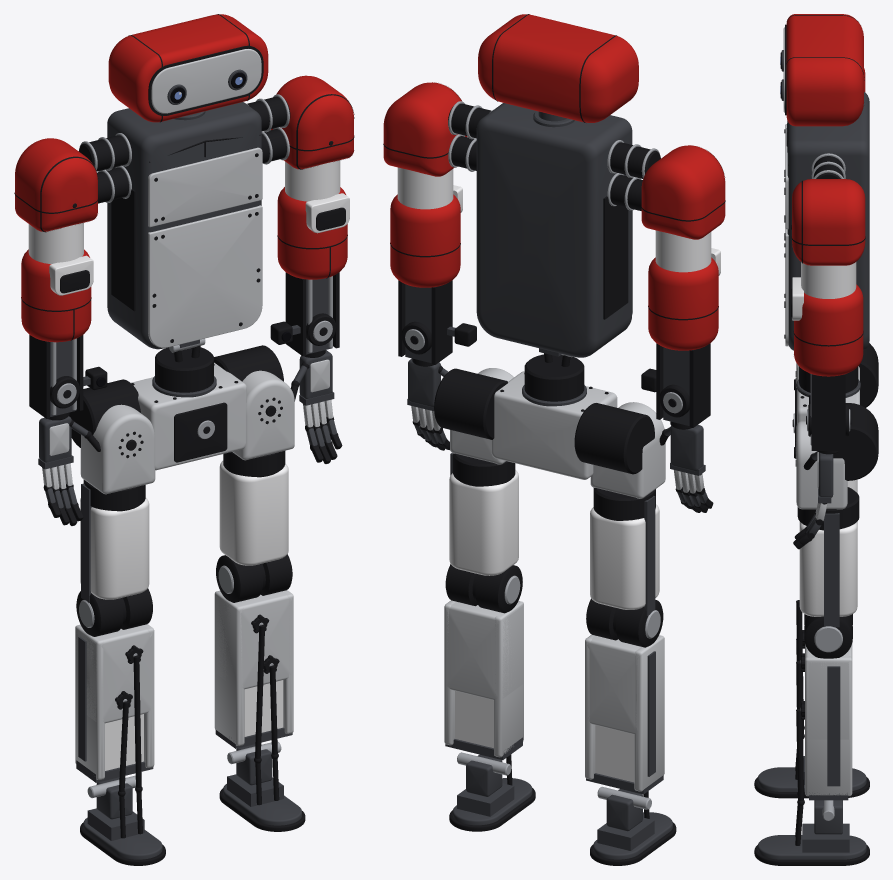
The model's file is robot.glb.
The picture shows the model from 3 angles, left to right: view 1: azimuth 30°, elevation 25°; view 2: azimuth 150°, elevation 25°; view 3: azimuth 270°, elevation 25°; orthographic projection.
Parts seen in each view (by area): view 1: Torso, Pelvis, Head, Shin_R, Shin_L, Forearm_R, Thigh_R, Thigh_L, Forearm_L, Arm_R, Arm_L, Foot_R (+3 smaller); view 2: Torso, Pelvis, Head, Shin_L, Shin_R, Thigh_L, Thigh_R, Forearm_L, Forearm_R, Arm_R, Arm_L, Foot_L (+3 smaller); view 3: Head, Forearm_L, Shin_L, Thigh_L, Arm_L, Torso, Pelvis, Foot_L, Foot_R, Hand_L, Shin_R.
Boxes of the visible parts, x1,y1,x2,y2 form: Torso: (78,94,290,362); Pelvis: (69,345,294,494); Head: (108,14,268,122); Shin_R: (75,624,154,792); Shin_L: (214,590,293,758); Forearm_R: (21,249,107,418); Thigh_R: (76,479,152,636); Thigh_L: (216,451,292,602); Forearm_L: (270,187,349,356); Arm_R: (14,138,98,263); Arm_L: (271,75,354,201); Foot_R: (80,775,165,865); Torso: (448,101,660,366); Pelvis: (434,354,665,498); Head: (478,14,638,122); Shin_L: (444,600,523,759); Shin_R: (585,634,664,794); Thigh_L: (445,453,522,613); Thigh_R: (586,488,663,647); Forearm_L: (390,185,476,364); Forearm_R: (641,248,720,427); Arm_R: (641,145,725,272); Arm_L: (383,82,467,209); Foot_L: (449,752,535,831); Head: (780,14,864,126); Forearm_L: (791,277,863,450); Shin_L: (796,643,852,800); Thigh_L: (797,487,859,658); Arm_L: (791,179,865,298); Torso: (784,92,869,350); Pelvis: (792,343,878,509); Foot_L: (754,792,869,865); Foot_R: (754,726,869,798); Hand_L: (793,451,839,549); Shin_R: (796,600,804,734).
Bounding box in the file's own units: 0.4212 × 1 × 0.1433.
